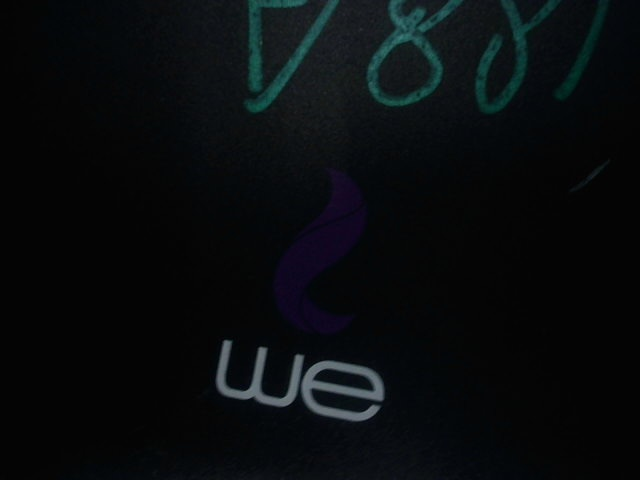AT_We: (207, 161, 390, 423)
